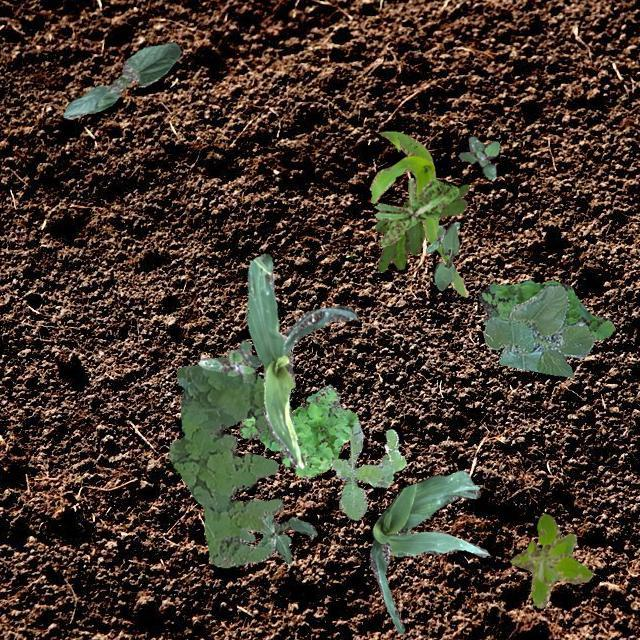crop: (246, 252, 356, 468), (370, 470, 488, 634), (368, 130, 468, 296), (482, 283, 594, 377), (62, 42, 180, 118), (256, 514, 316, 562), (433, 222, 458, 290)
weed: (168, 356, 282, 566), (238, 384, 356, 476), (476, 278, 614, 338), (374, 184, 468, 270), (510, 514, 592, 608), (330, 422, 406, 518), (373, 177, 458, 246), (197, 340, 260, 382), (458, 136, 498, 178), (424, 220, 458, 252)
